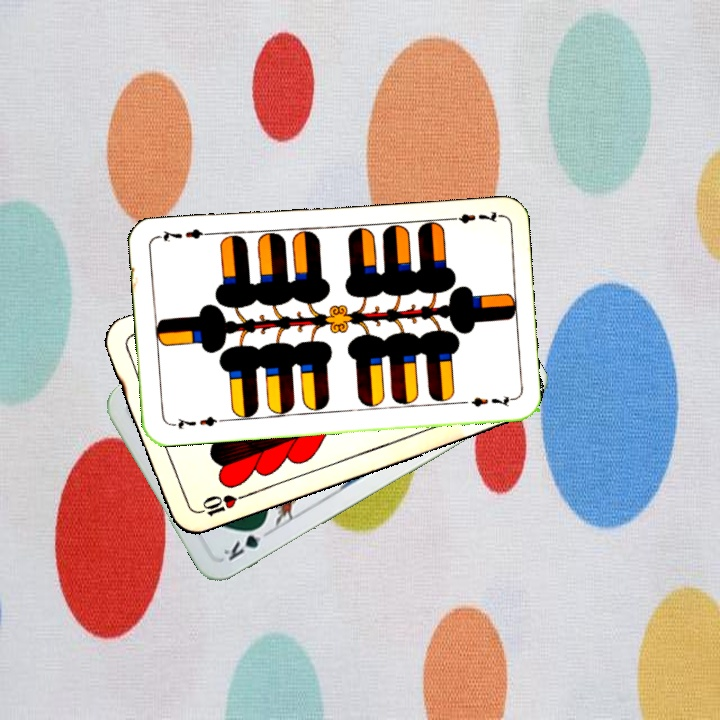E7: (166, 412, 225, 432), (443, 207, 502, 226)
GK: (219, 519, 273, 564)
H10: (191, 490, 249, 519)
